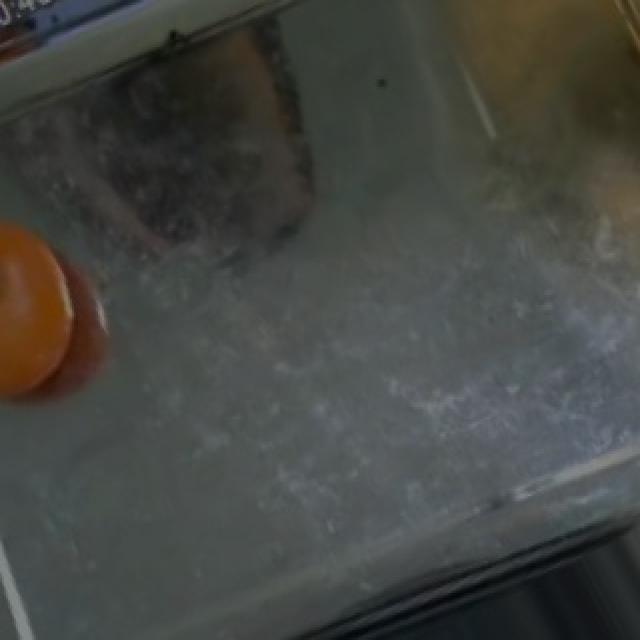Fruit: (0, 196, 106, 422)
